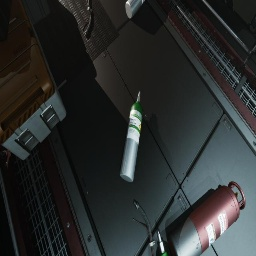0: (120, 91, 143, 182), (126, 0, 145, 19), (158, 231, 170, 256)
NitrogenTank ,: (168, 181, 246, 256), (0, 165, 4, 188)
